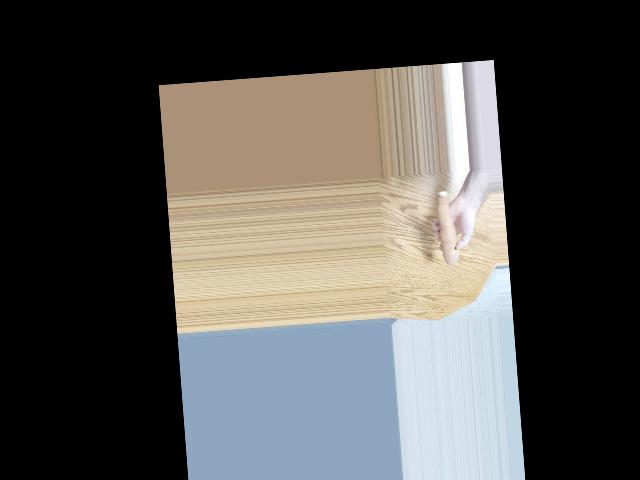sweet_potato: (431, 196, 456, 267)
